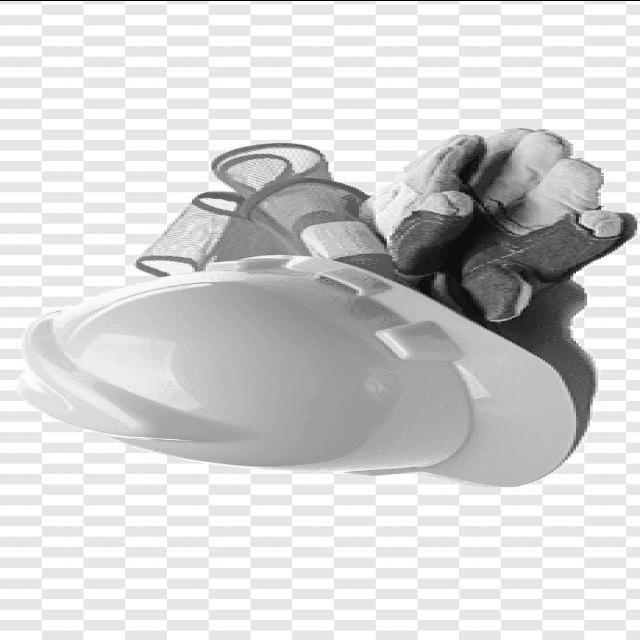safety_helmet: (17, 257, 582, 486)
